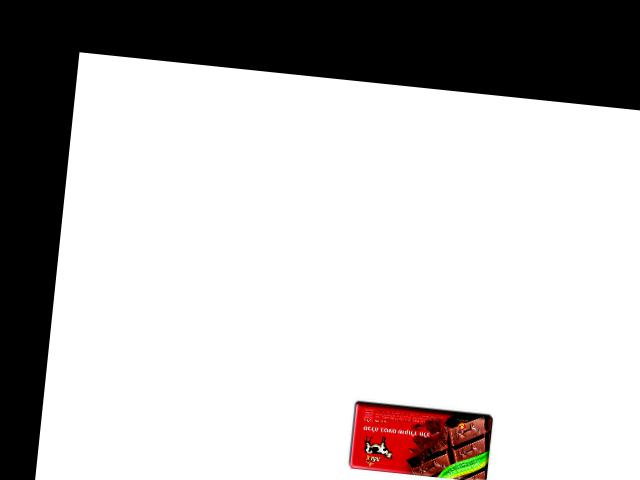chocolate: (344, 394, 494, 480)
